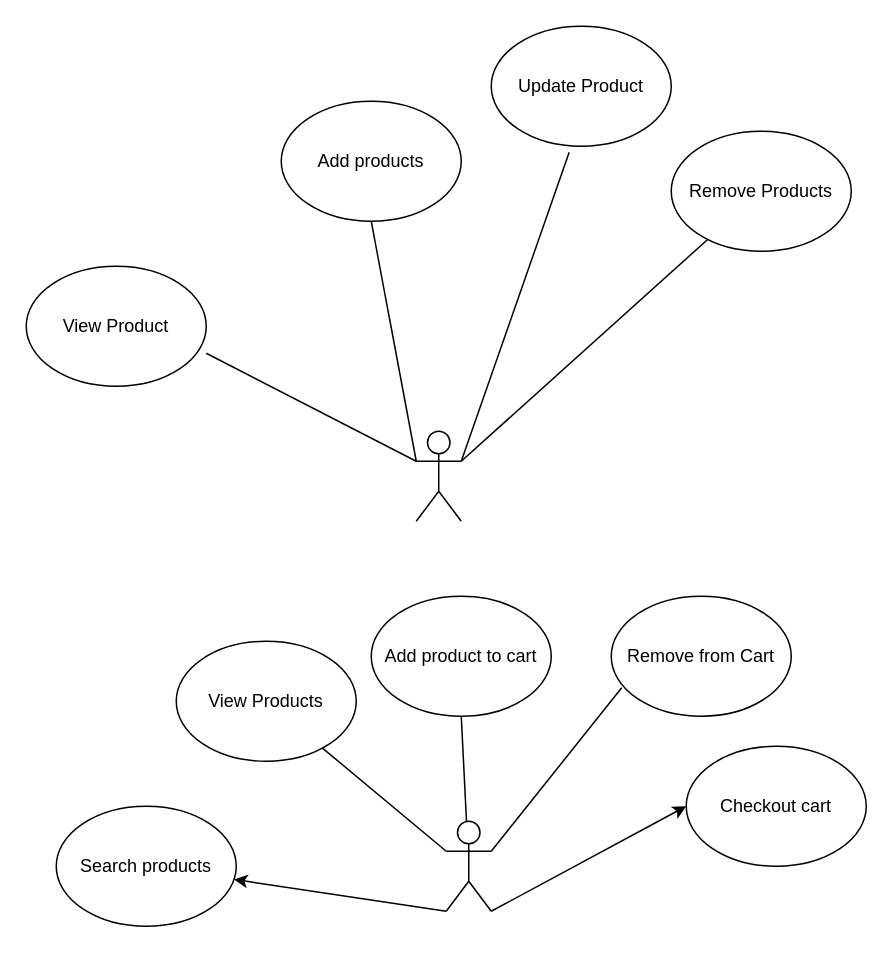
Some shapes in this 893 by 969 pixel diagram are drawn without their labels. The centre of each missing label's shape, as x and y in pixels:
Admin: (x=438, y=475)
Customer: (x=468, y=865)
